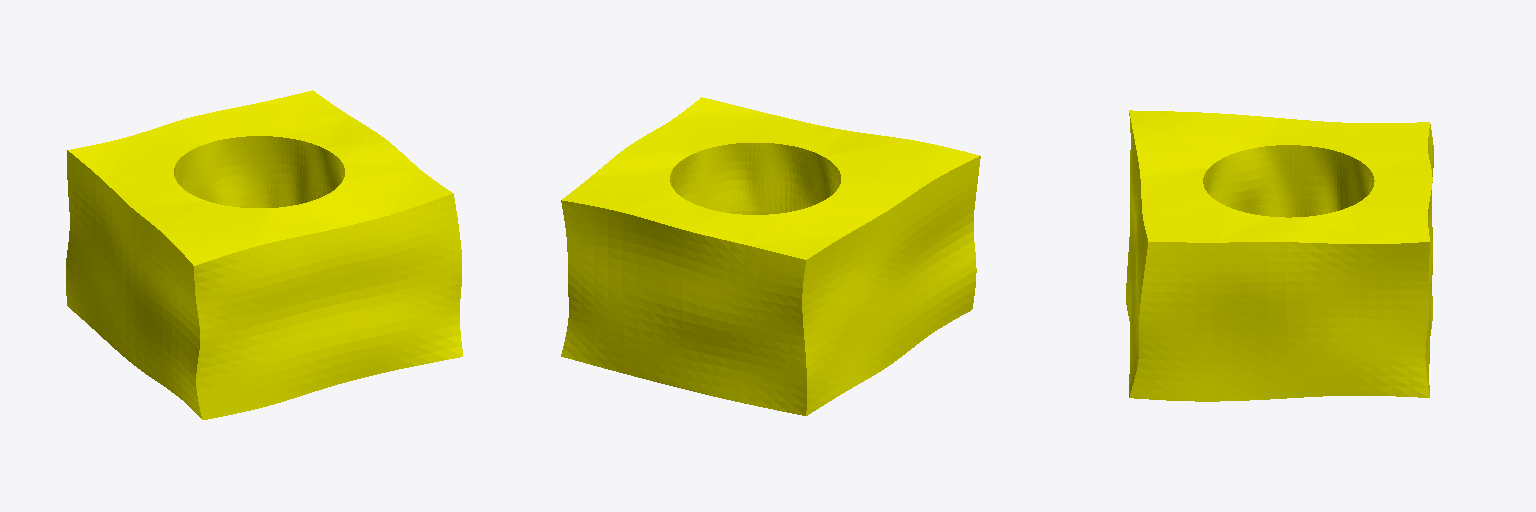
Rendered from reel.obj.
3 renders of one model, left to right at view 1: azimuth 30°, elevation 25°; view 2: azimuth 150°, elevation 25°; view 3: azimuth 270°, elevation 25°, orthographic.
Parts seen in each view (by area): view 1: reel; view 2: reel; view 3: reel.
Part boxes in pixels (x1,y1,x2,y2): reel: (66,90,462,419); reel: (561,97,980,415); reel: (1126,110,1433,401).
Size of the model in its own units: 3.68 by 2.07 by 3.57.